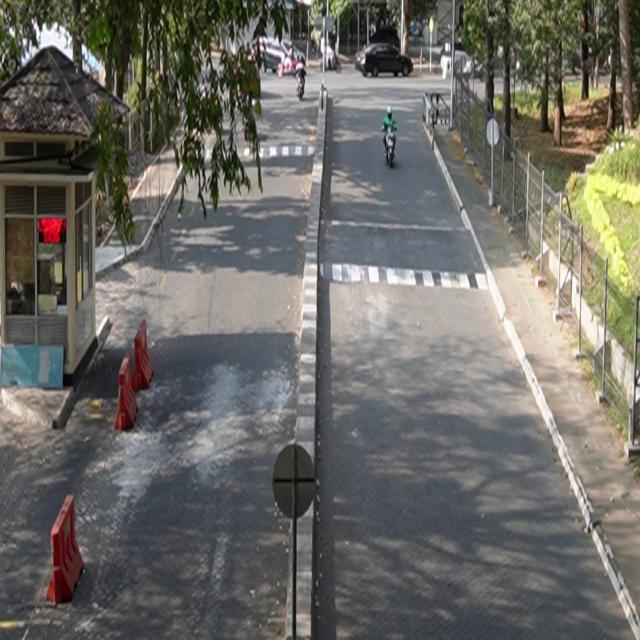car: (356, 43, 414, 78)
